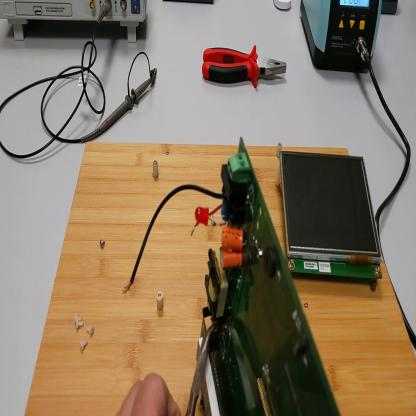hand: (118, 375, 182, 415)
low voltage board: (124, 136, 341, 416)
oscilloscope: (1, 2, 149, 43)
oscilloscope probe tip: (86, 75, 153, 141)
pliers: (202, 38, 289, 88)
socket: (382, 1, 400, 16)
welder station: (303, 2, 383, 78)
working area: (30, 141, 416, 415)
